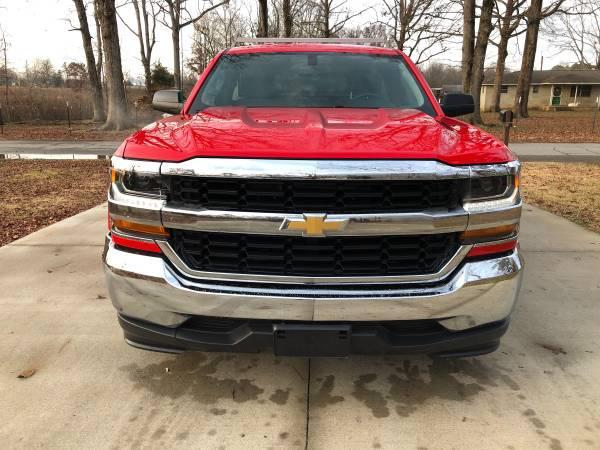Front_Bumper: (101, 191, 523, 360)
Front_Windshield: (185, 38, 441, 112)
Grille: (165, 152, 478, 292)
Hood: (122, 103, 519, 159)
Left_Headlight: (470, 155, 523, 207)
Left_Mirror: (442, 92, 478, 117)
Right_Headlight: (112, 145, 165, 201)
Right_Mirror: (153, 86, 186, 112)
